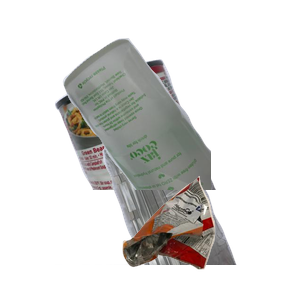glass: (60, 36, 300, 216)
metal: (52, 57, 260, 237)
plastic: (55, 120, 284, 300)
trash: (120, 174, 300, 300)
